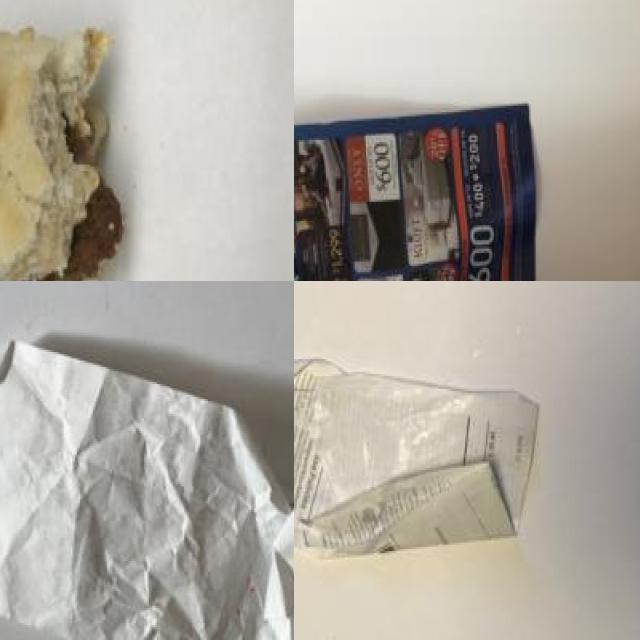compost: (0, 16, 142, 281)
paper: (0, 342, 294, 640), (294, 347, 557, 572), (294, 102, 563, 281)
